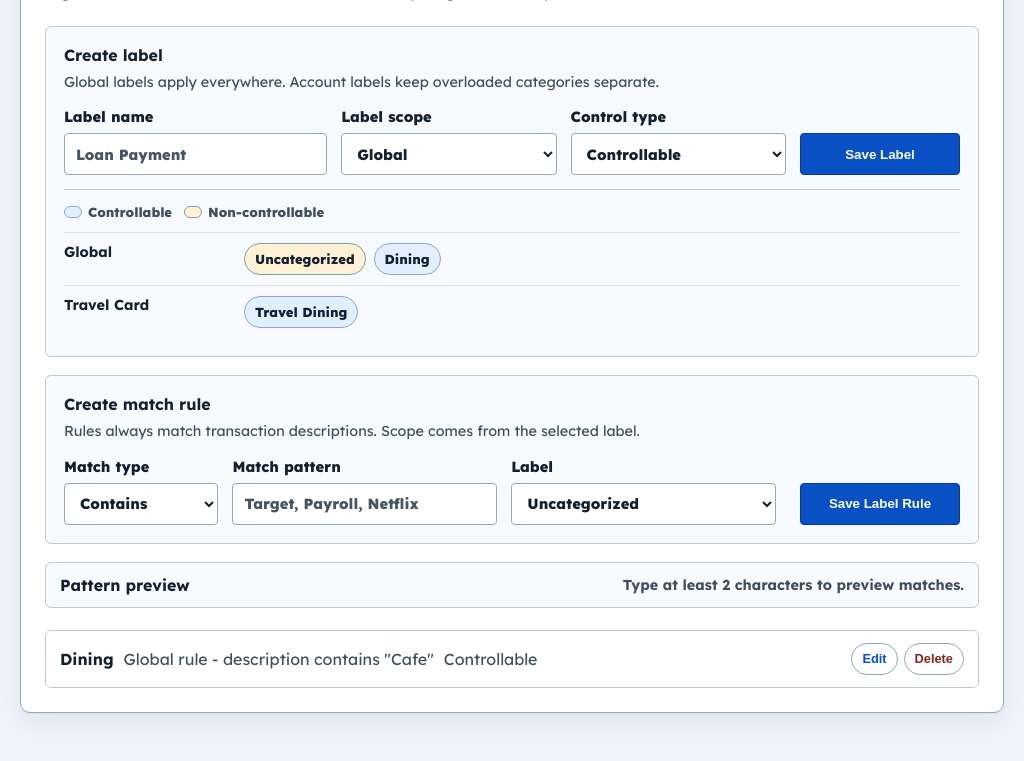
Test: App › creates scoped regex label rules and previews matches
(page scrolled)
Expected: the element named "Current labels" shows "Dining", [385, 251, 430, 267]
Expected: the element named "Current labels" shows "Global", [64, 243, 112, 261]
Step 1. Select "Travel Dining (Travel Card)" in the dropdown labelled "Label" → (644, 504), box [511, 483, 776, 525]
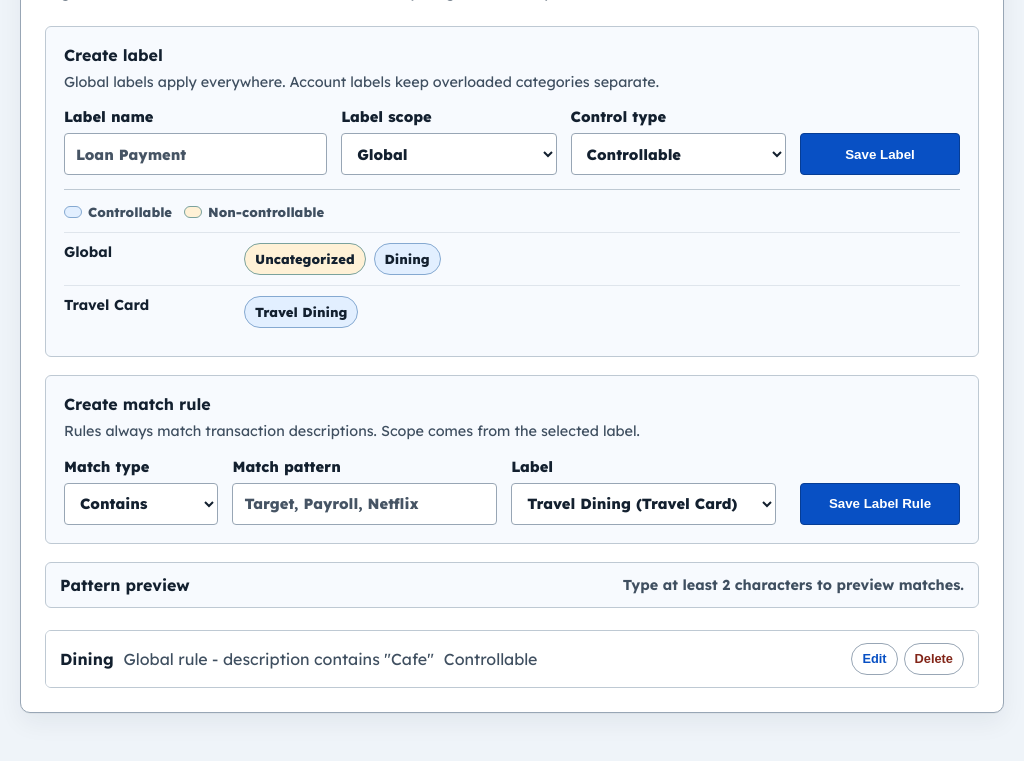
Step 2. Select "Regex" in the dropdown labelled "Match type" → (141, 504), box [64, 483, 218, 525]
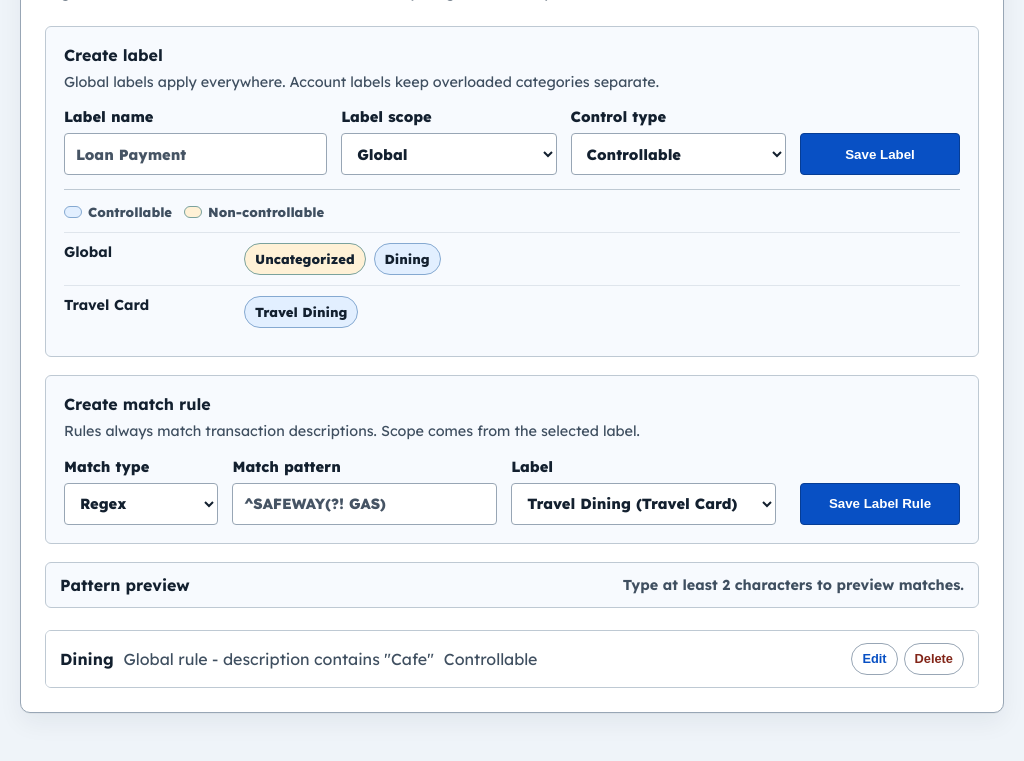
Step 3. Type "Bistro" into the field labelled "Match pattern" → (365, 504), box [232, 483, 497, 525]
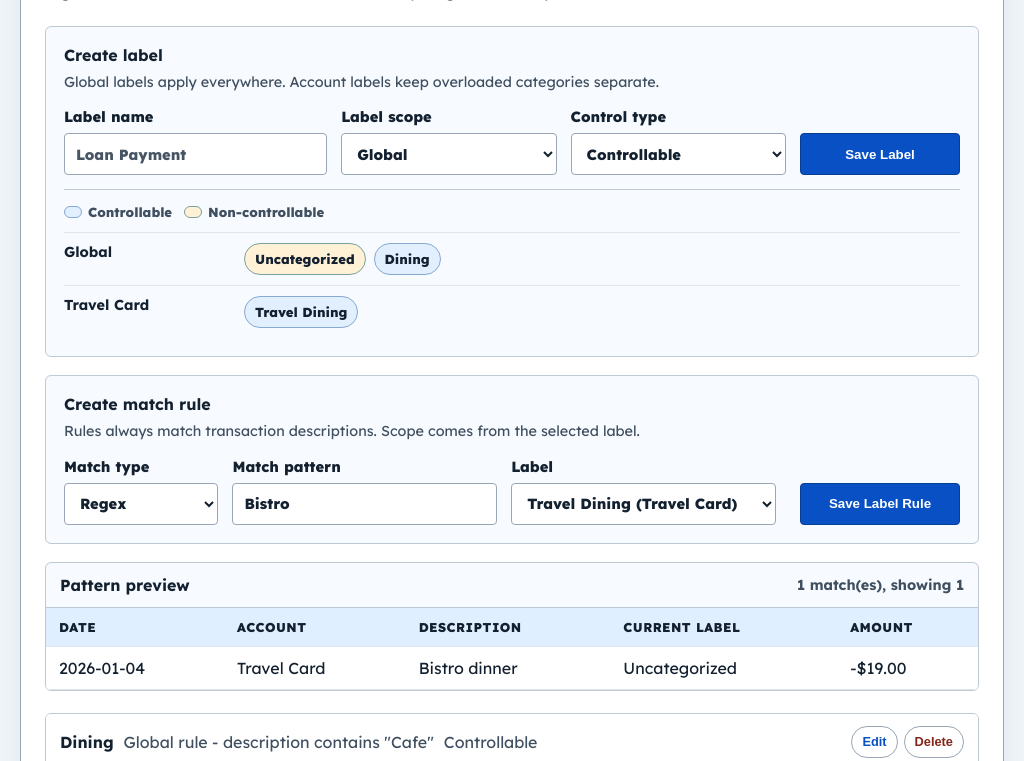
Now the text "1 match(es), showing 1" is shown, box [797, 576, 964, 594]
Now the text "Bistro dinner" is shown, box [406, 646, 610, 689]
Step 4. Click the button "Save Label Rule" → (880, 504), box [800, 483, 960, 525]
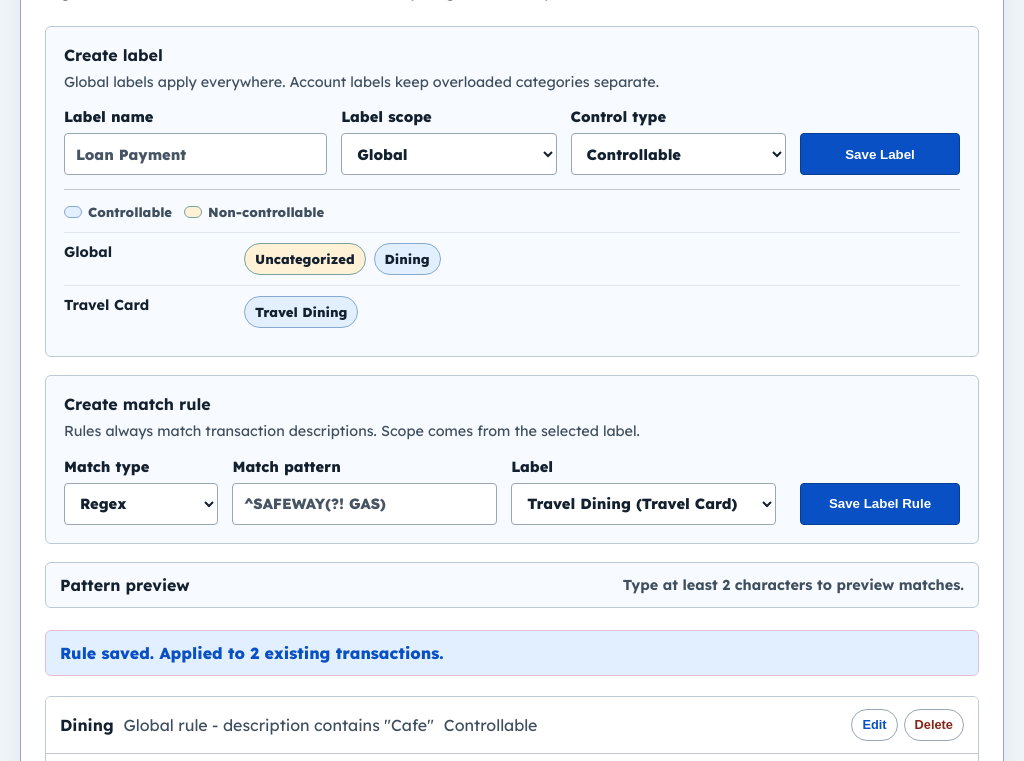
Now the text "Rule saved. Applied to 2 existing transactions." is shown, box [45, 630, 979, 676]
